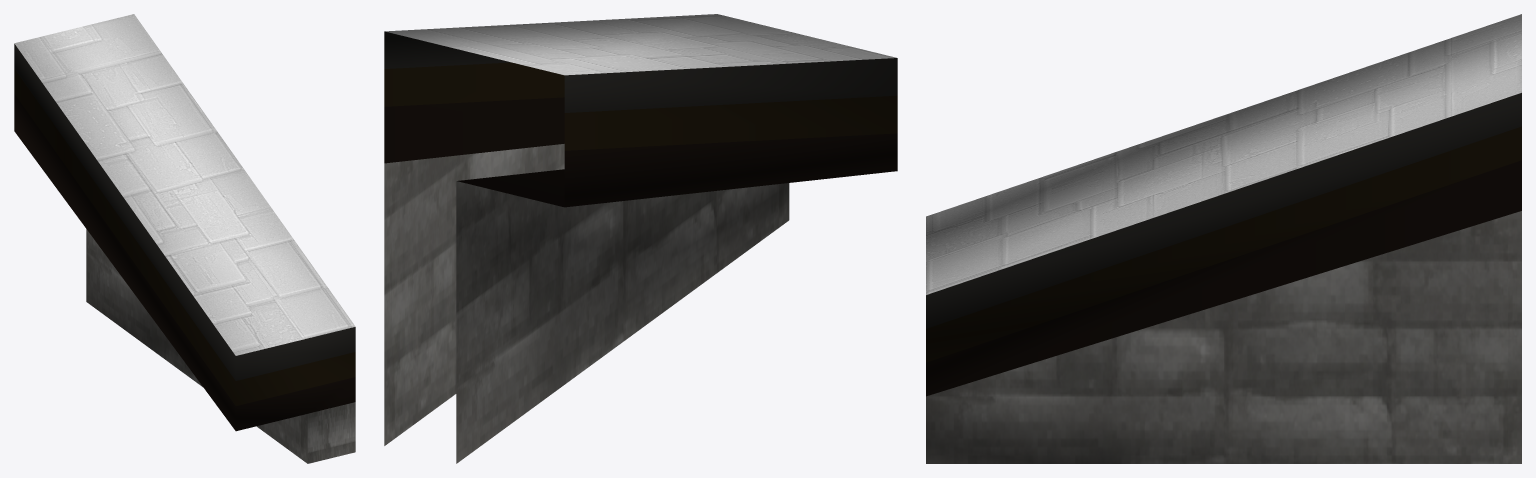
The picture shows the model from 3 angles, left to right: view 1: azimuth 30°, elevation 25°; view 2: azimuth 150°, elevation 25°; view 3: azimuth 270°, elevation 25°; orthographic projection. The views are drawn at different scales.
Visible parts, largest first — view 1: 5477; view 2: 5477; view 3: 5477.
Boxes of the visible parts, box(x1,y1,x2,y2) form: 5477: box(14, 14, 355, 463); 5477: box(384, 14, 897, 463); 5477: box(926, 14, 1521, 463).
Size of the model in its own units: 0.4 by 0.88 by 1.28.
3 materials, 2 textured.
